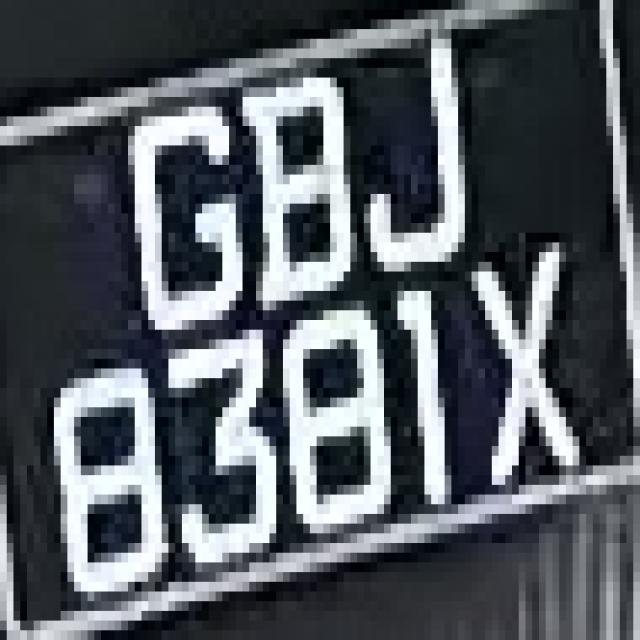1: (398, 242, 458, 543)
3: (148, 330, 296, 562)
8: (276, 262, 424, 553), (34, 340, 175, 620)
B: (222, 68, 370, 310)
G: (88, 78, 249, 349)
J: (344, 48, 498, 272)
X: (445, 233, 586, 504)
